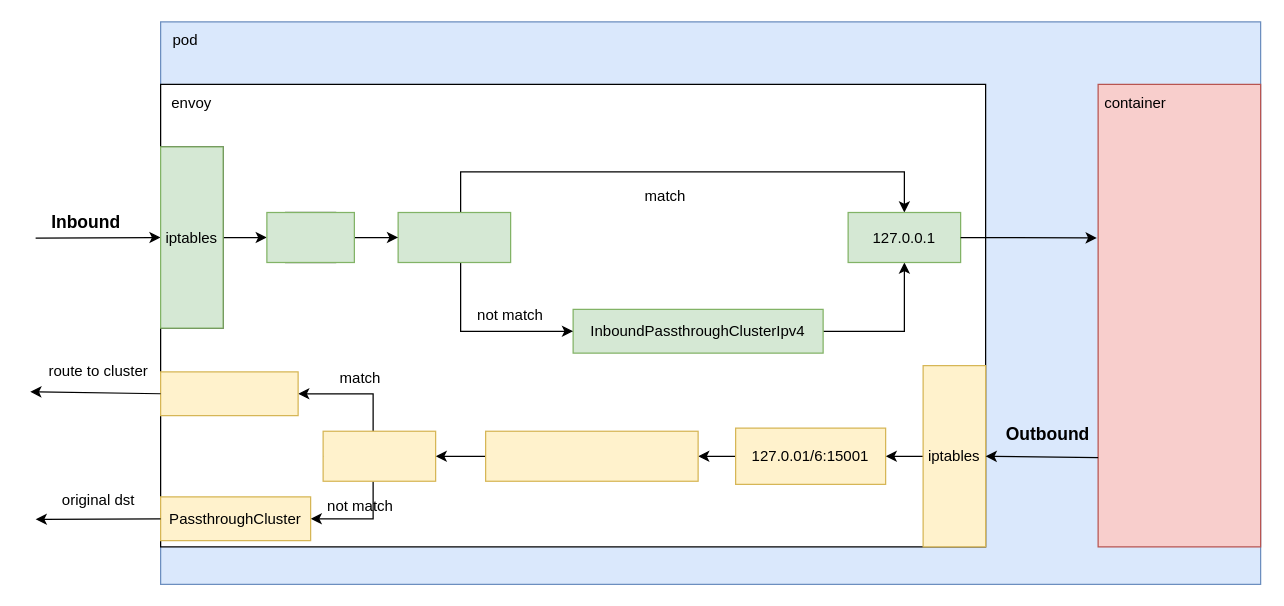
Some shapes in this 1284 by 606 pixel diagram are drawn without their labels. The shapes that lost their labels are listed below. From the top down, each one's box as (x1, y1, x2, y2) in pixels, then its label:
(266, 211, 354, 262): <ip>:15006
(397, 211, 511, 262): filter chains
(159, 371, 298, 416): matched listener
(322, 430, 436, 481): match listeners
(484, 430, 698, 481): 15001 listener （"use_original_dst": true）
